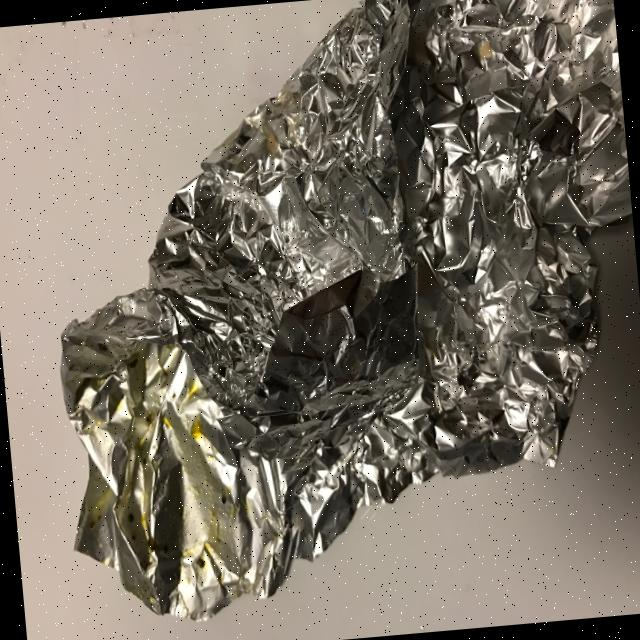metal: (26, 0, 640, 631)
